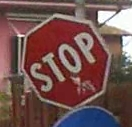stop: (13, 10, 111, 113)
